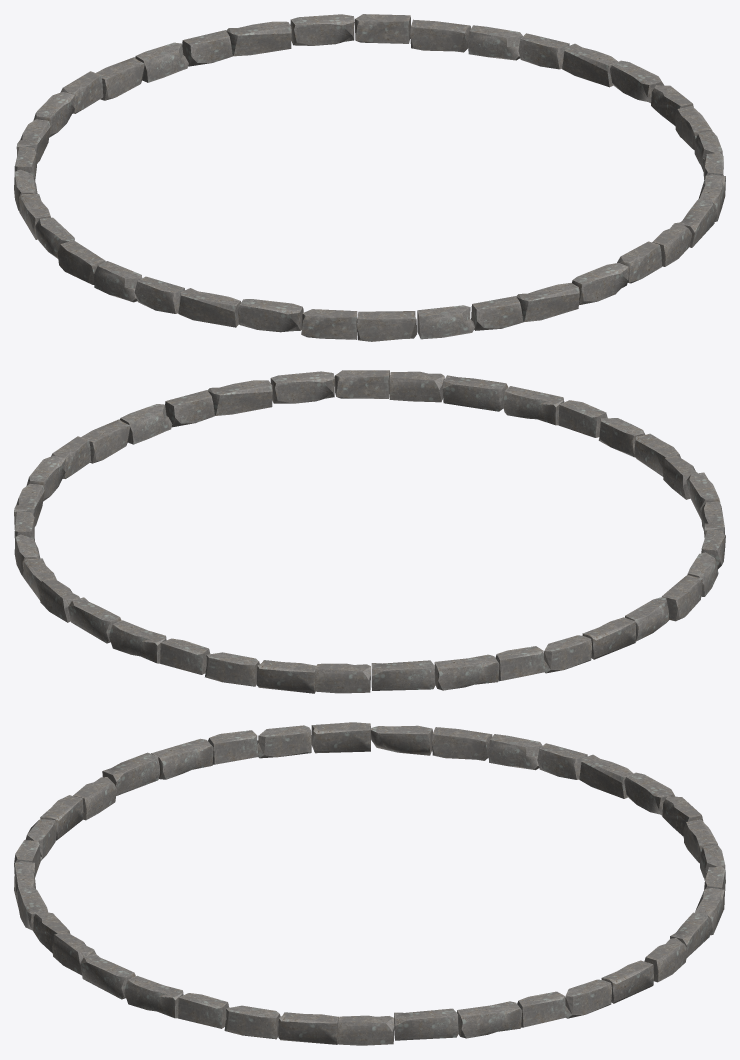
Rendered from SM_Brick_Ring.fbx.
3 views of the same model, one above another, from view 1: azimuth 30°, elevation 25°; view 2: azimuth 150°, elevation 25°; view 3: azimuth 270°, elevation 25° (orthographic).
Visible parts, largest first — view 1: SM_Brick_Ring_LOD0; view 2: SM_Brick_Ring_LOD0; view 3: SM_Brick_Ring_LOD0.
Boxes of the visible parts, bbox=[...] form: SM_Brick_Ring_LOD0: bbox=[14, 14, 725, 341]; SM_Brick_Ring_LOD0: bbox=[14, 370, 725, 693]; SM_Brick_Ring_LOD0: bbox=[14, 722, 725, 1045].
Bounding box in the file's own units: 750 × 743 × 32.45.
